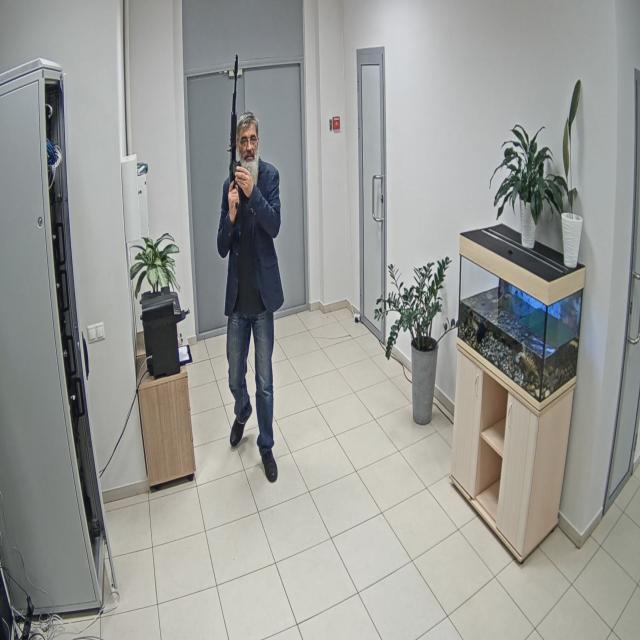-Gun: (230, 52, 238, 182)
